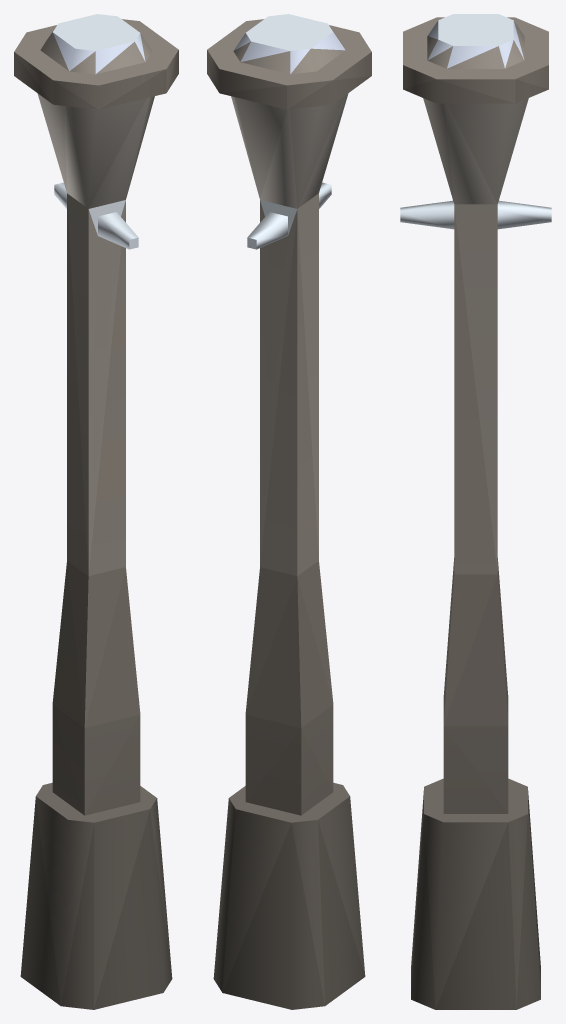
Rendered from kenney_town_lantern.glb.
3 views of the same model, side by side, from view 1: azimuth 30°, elevation 25°; view 2: azimuth 150°, elevation 25°; view 3: azimuth 270°, elevation 25° (orthographic).
Parts seen in each view (by area): view 1: stone, cloth; view 2: stone, cloth; view 3: stone, cloth.
Part boxes in pixels (box(x1,y1,x2,y2)): stone: box(14, 19, 178, 1009); cloth: box(50, 14, 145, 249); stone: box(207, 19, 371, 1009); cloth: box(233, 14, 345, 249); stone: box(403, 17, 548, 1009); cloth: box(400, 14, 551, 229).
Size of the model in its own units: 0.2164 by 1.56 by 0.2243.
